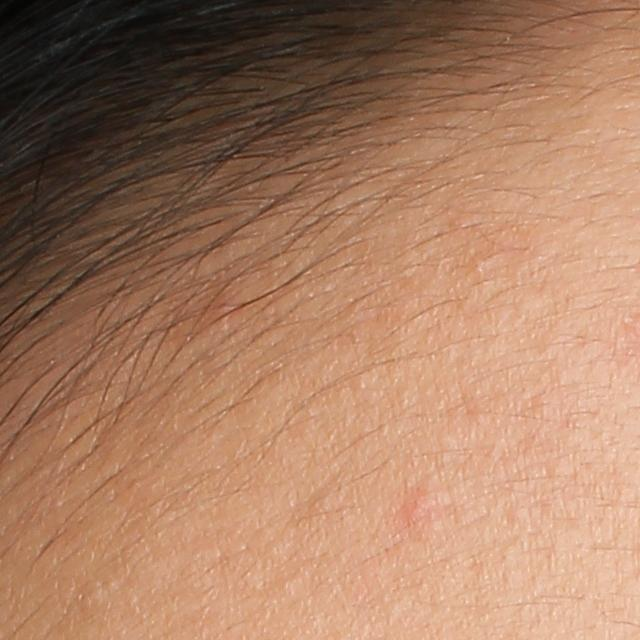papule: (402, 485, 435, 525)
